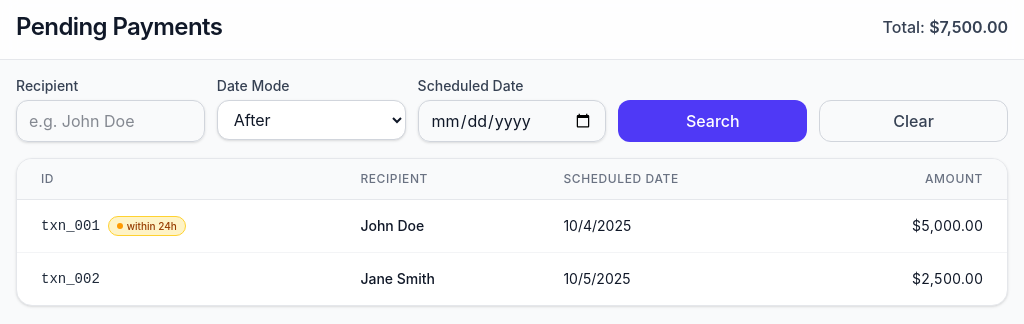
Scenario: PaymentsPage Component › clears filters when clear button is clicked
Expected: the button "Search" is shown, x1=618 y1=100 x2=807 y2=142
# Set some filters first
In the field with placeholder "e.g. John Doe": (110, 121) x1=16 y1=100 x2=205 y2=142, type "John"
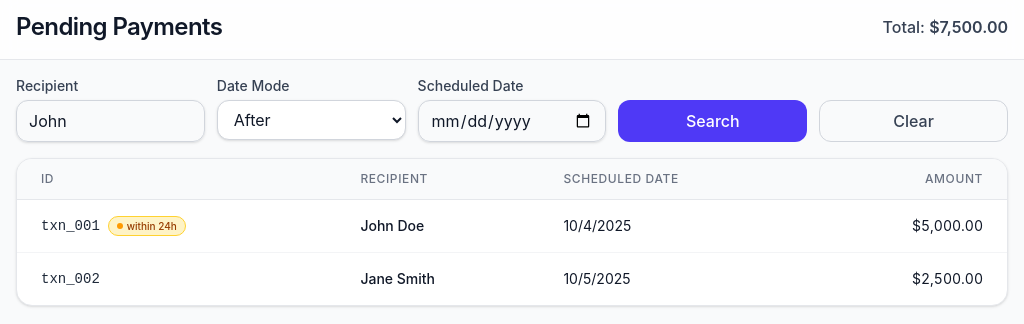
Click the button "Clear": click(914, 121) x1=819 y1=100 x2=1008 y2=142
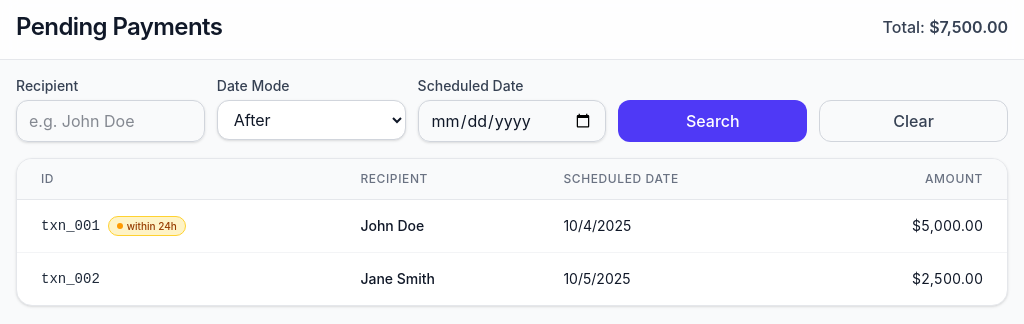
Expected: the dropdown showing "After" is shown, x1=217 y1=100 x2=406 y2=140
Expected: the field with placeholder "e.g. John Doe" is empty, x1=16 y1=100 x2=205 y2=142
